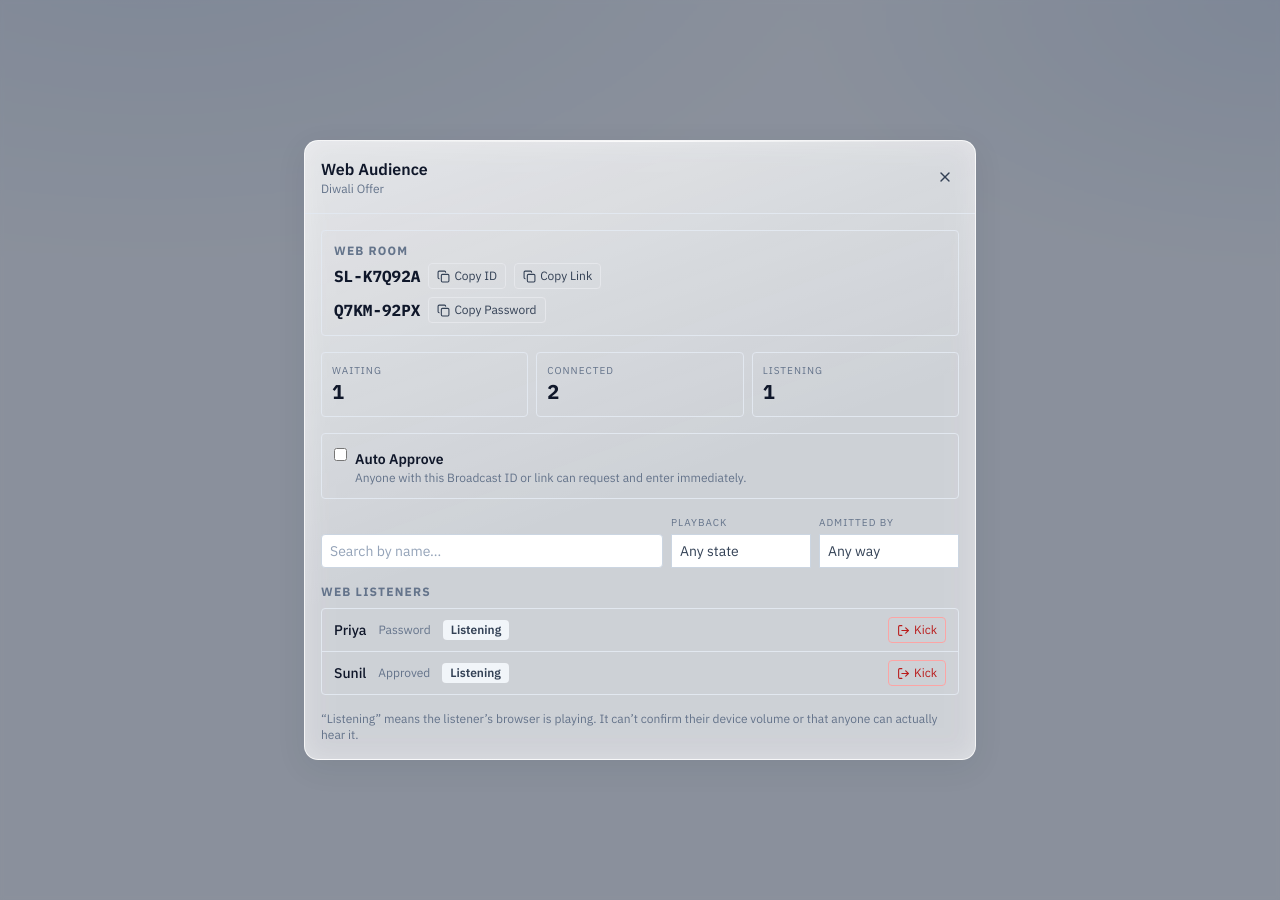
Scenario: the counts say how much is hidden
This screenshot has width=1280, height=900.
In the field with test id "supervised-audience-search": (492, 551) [321,534,663,568], type "priya"
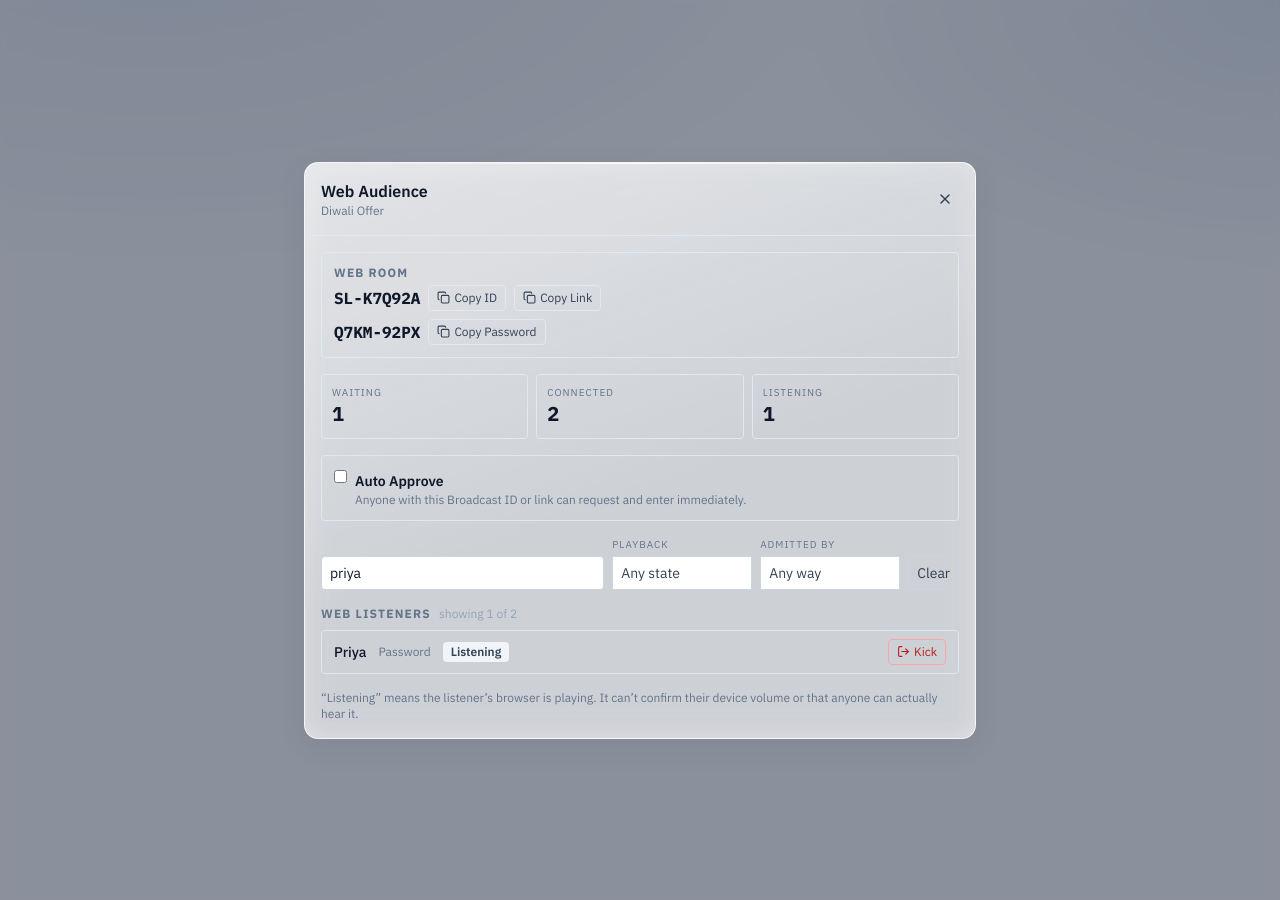
Result: the text with test id "supervised-listener-count" reads "showing 1 of 2" at [439,606,517,620]
